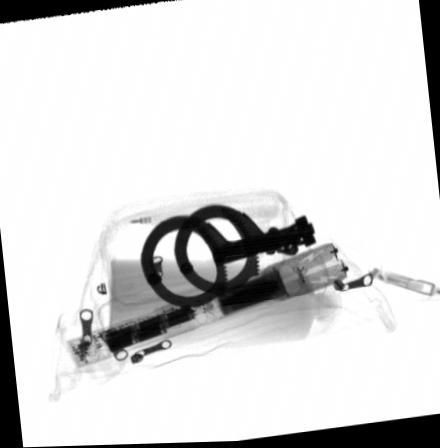Baton: (64, 240, 350, 370)
HandCuffs: (138, 202, 317, 310)
